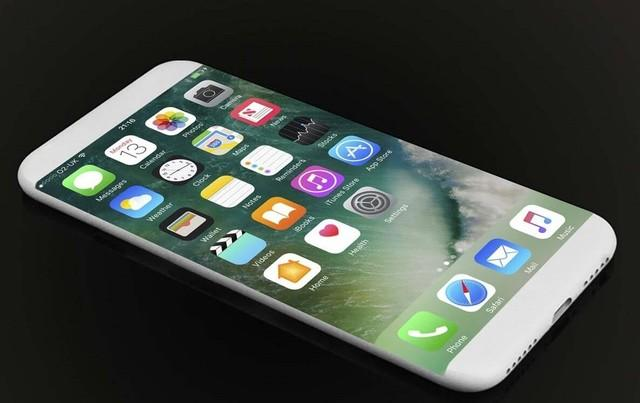phone: (34, 59, 620, 364)
